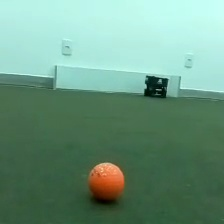ball: (85, 159, 127, 204)
goal: (51, 62, 182, 99)
robot: (142, 73, 170, 99)
